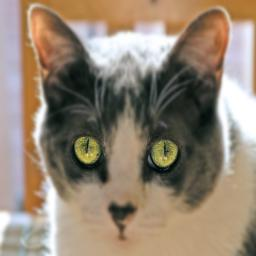catnose: (108, 202, 137, 231)
